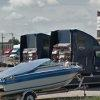Boat: (2, 49, 85, 98)
